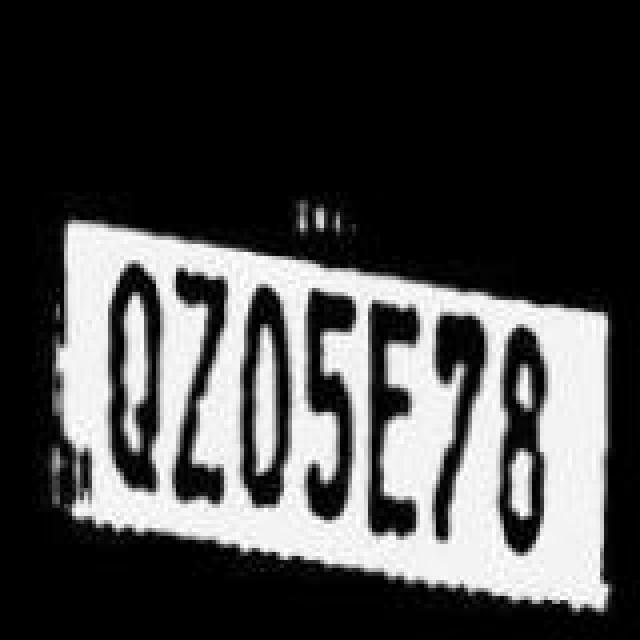5: (286, 282, 362, 526)
7: (422, 308, 498, 552)
8: (492, 318, 560, 558)
E: (346, 292, 430, 540)
O: (230, 276, 290, 512)
Q: (102, 256, 170, 500)
Z: (166, 258, 234, 514)
